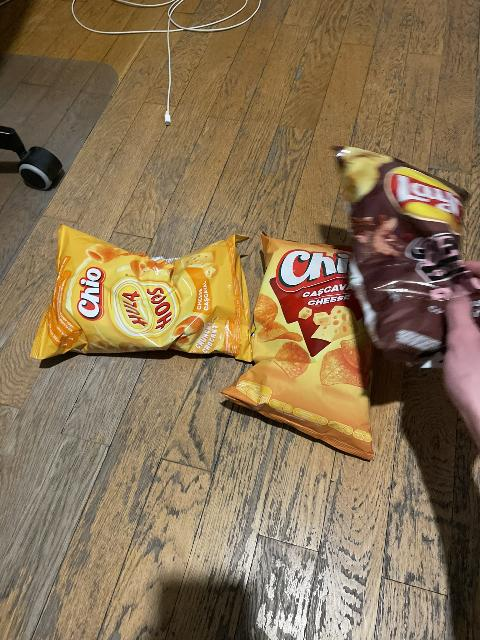Chio Cascaval 125g: (225, 237, 369, 454)
Chio Hula Hoops Cheese 70g: (32, 223, 255, 357)
Lays Beef Grilled Ribs 125g: (338, 148, 479, 361)
